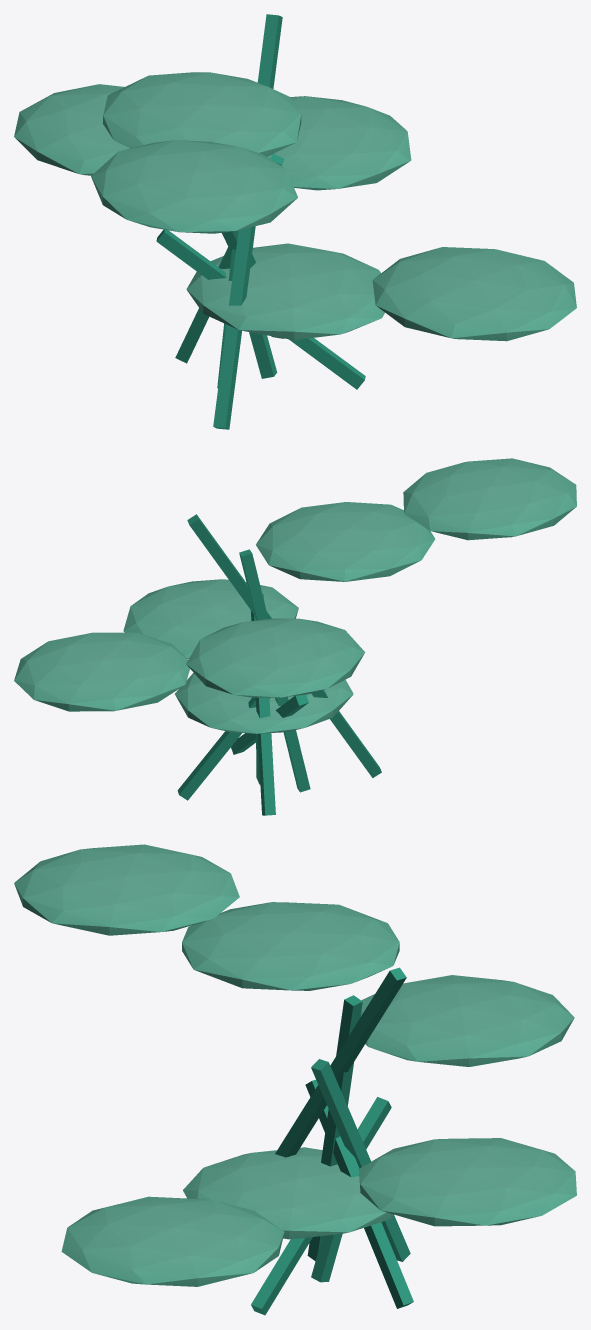
File: epipremnum-pinnatum.glb
3 views of the same model, one above another, from view 1: azimuth 30°, elevation 25°; view 2: azimuth 150°, elevation 25°; view 3: azimuth 270°, elevation 25° (orthographic). The views are drawn at different scales.
Visible parts, largest first — view 1: leaf4, leaf5, leaf0, leaf1, leaf3, leaf2, runner5, runner4, runner2, runner0; view 2: leaf5, leaf3, leaf2, leaf1, leaf4, leaf0, runner5, runner1, runner2, runner3, runner4; view 3: leaf5, leaf4, leaf3, leaf1, leaf2, leaf0, runner5, runner2, runner3, runner4, runner1, runner0.
Part boxes in pixels (x1=…): leaf4: x1=372, y1=247, x2=576, y2=341; leaf5: x1=91, y1=140, x2=297, y2=233; leaf0: x1=186, y1=243, x2=384, y2=340; leaf1: x1=103, y1=72, x2=301, y2=156; leaf3: x1=267, y1=96, x2=411, y2=190; leaf2: x1=14, y1=84, x2=130, y2=175; runner5: x1=213, y1=14, x2=282, y2=429; runner4: x1=156, y1=229, x2=365, y2=389; runner2: x1=175, y1=153, x2=284, y2=363; runner0: x1=249, y1=332, x2=277, y2=378; leaf5: x1=403, y1=458, x2=576, y2=540; leaf3: x1=14, y1=632, x2=189, y2=711; leaf2: x1=186, y1=618, x2=365, y2=697; leaf1: x1=256, y1=502, x2=435, y2=581; leaf4: x1=123, y1=579, x2=298, y2=658; leaf0: x1=175, y1=673, x2=353, y2=733; runner5: x1=187, y1=514, x2=381, y2=777; runner1: x1=239, y1=549, x2=310, y2=792; runner2: x1=250, y1=594, x2=275, y2=815; runner3: x1=177, y1=697, x2=270, y2=800; runner4: x1=231, y1=694, x2=308, y2=754; leaf5: x1=14, y1=844, x2=239, y2=935; leaf4: x1=61, y1=1196, x2=284, y2=1286; leaf3: x1=359, y1=1138, x2=576, y2=1226; leaf1: x1=182, y1=902, x2=399, y2=990; leaf2: x1=360, y1=975, x2=574, y2=1066; leaf0: x1=183, y1=1147, x2=393, y2=1239; runner5: x1=275, y1=967, x2=406, y2=1157; runner2: x1=311, y1=1059, x2=410, y2=1261; runner3: x1=305, y1=1079, x2=413, y2=1308; runner4: x1=251, y1=1097, x2=391, y2=1315; runner1: x1=307, y1=995, x2=362, y2=1260; runner0: x1=311, y1=1234, x2=342, y2=1282.
Bounding box in the file's own units: 0.5349 × 0.3563 × 0.541.
